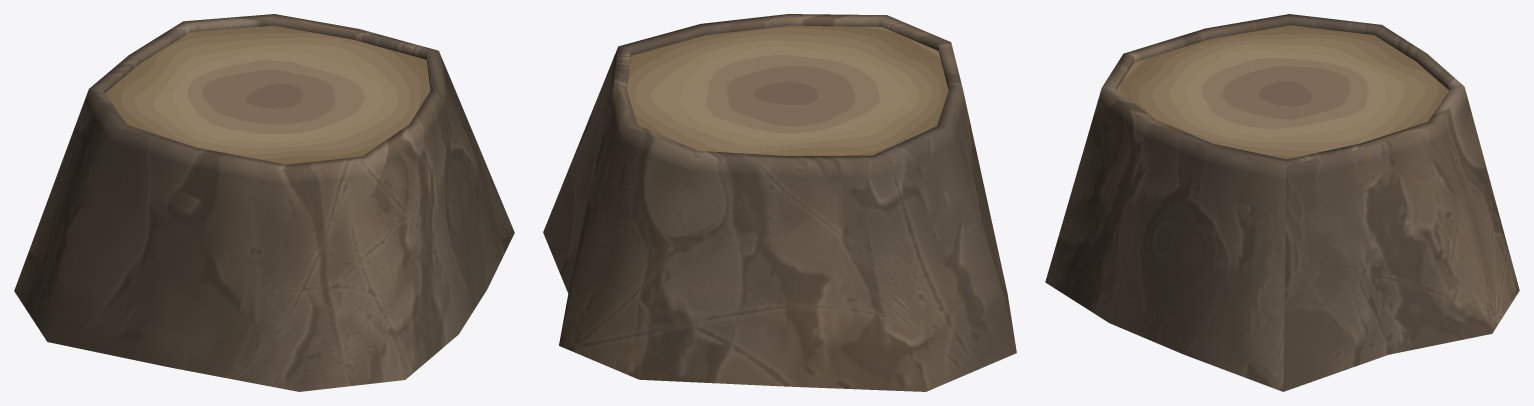
File: tree02_trunk.fbx
3 renders of one model, left to right at view 1: azimuth 30°, elevation 25°; view 2: azimuth 150°, elevation 25°; view 3: azimuth 270°, elevation 25°, orthographic. The views are drawn at different scales.
Visible parts, largest first — view 1: Cylinder.005; view 2: Cylinder.005; view 3: Cylinder.005.
Boxes of the visible parts, x1,y1,x2,y2 form: Cylinder.005: (14, 14, 514, 391); Cylinder.005: (543, 14, 1016, 391); Cylinder.005: (1045, 14, 1519, 391).
Size of the model in its own units: 59.23 by 24.54 by 54.57.
